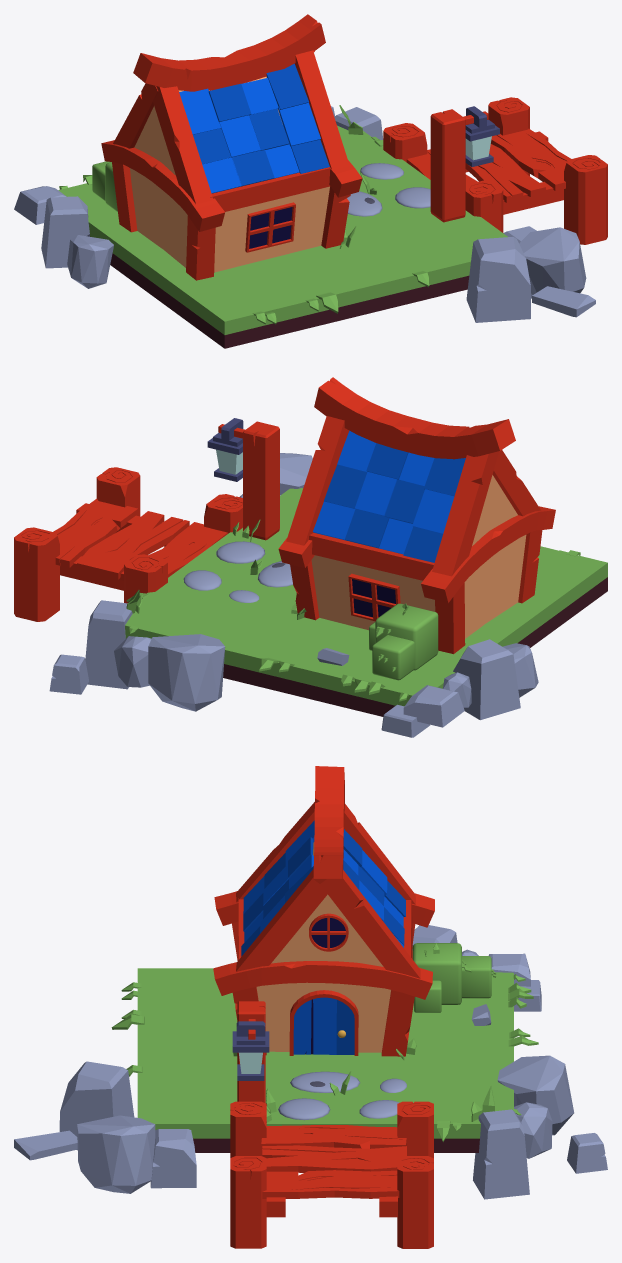
File: Cubo055.fbx
3 renders of one model, top to bottom at view 1: azimuth 30°, elevation 25°; view 2: azimuth 150°, elevation 25°; view 3: azimuth 270°, elevation 25°, orthographic. The views are drawn at different scales.
Visible parts, largest first — view 1: Cubo.055; view 2: Cubo.055; view 3: Cubo.055.
Boxes of the visible parts, bbox=[...] form: Cubo.055: bbox=[14, 14, 607, 348]; Cubo.055: bbox=[14, 377, 607, 737]; Cubo.055: bbox=[14, 766, 607, 1248].
Bounding box in the file's own units: 529 × 264 × 527.
